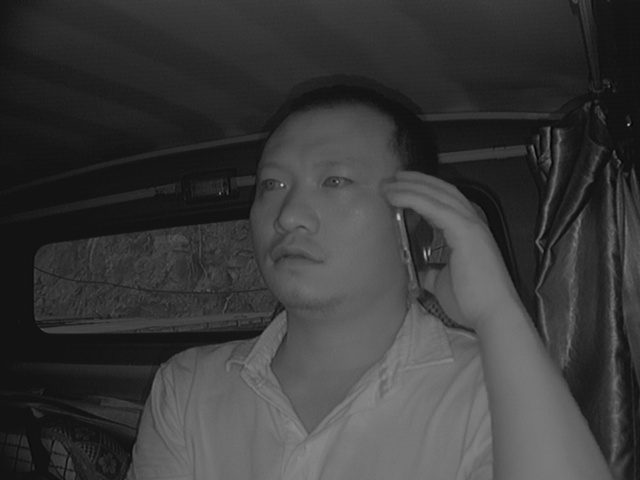hand: (385, 167, 498, 322)
